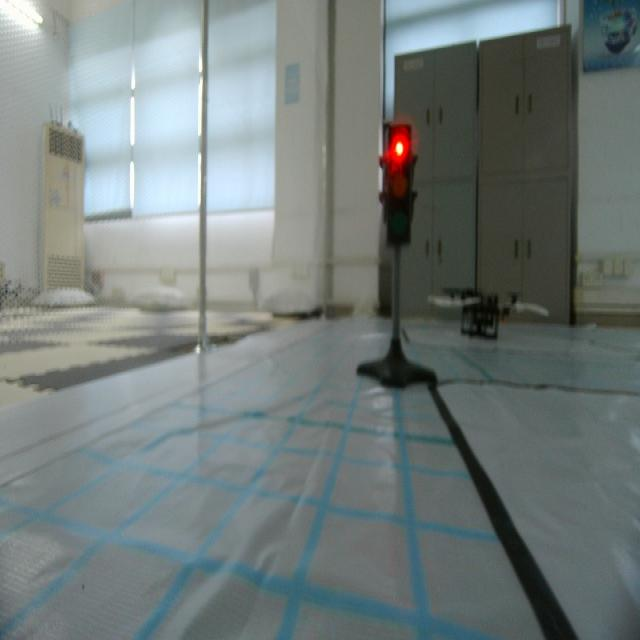red: (377, 115, 419, 258)
